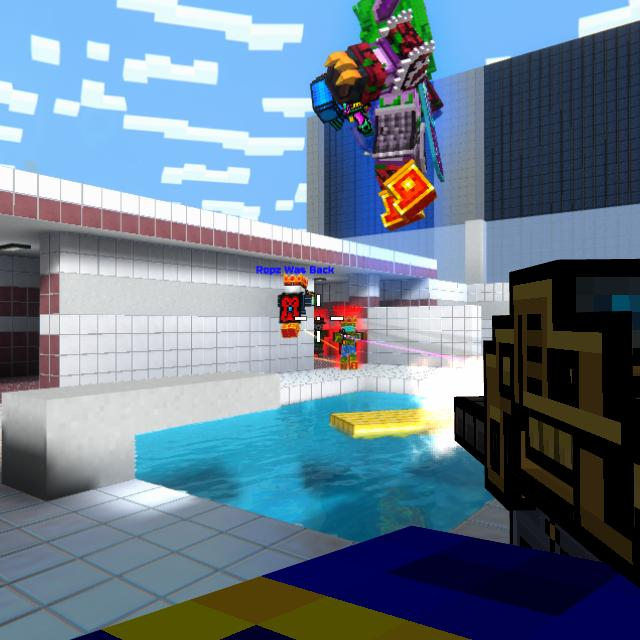Enemy: (332, 319, 366, 370), (314, 318, 330, 358)
